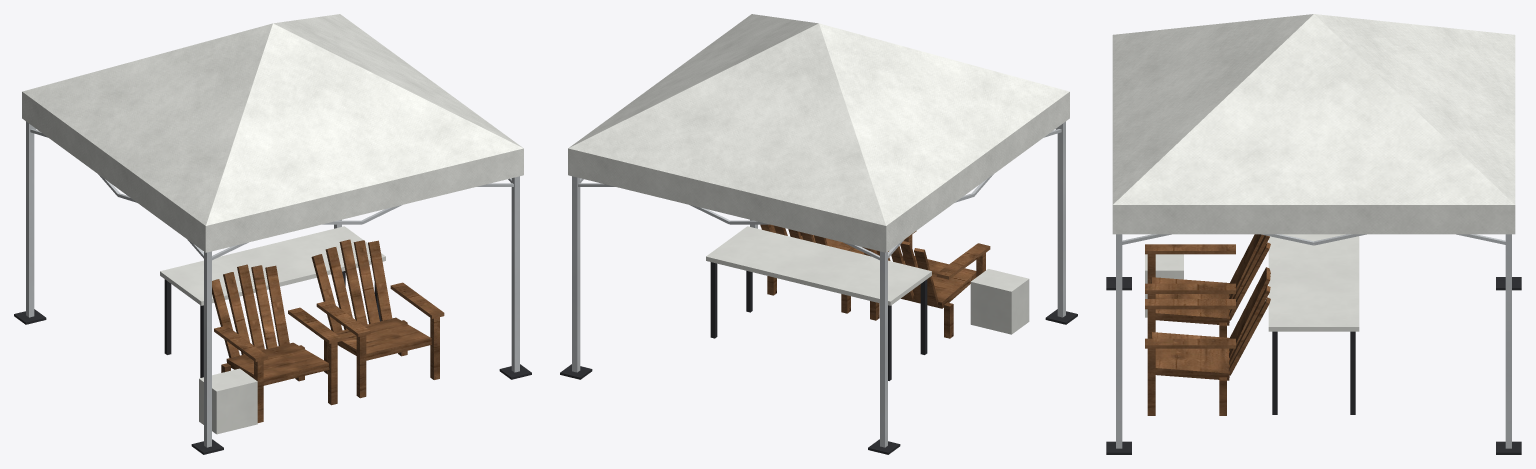
The model's file is tour_tent.fbx.
3 views of the same model, side by side, from view 1: azimuth 30°, elevation 25°; view 2: azimuth 150°, elevation 25°; view 3: azimuth 270°, elevation 25° (orthographic). The views are drawn at different scales.
Visible parts, largest first — view 1: tour_tent_LOD0; view 2: tour_tent_LOD0; view 3: tour_tent_LOD0.
Boxes of the visible parts, bbox=[...] form: tour_tent_LOD0: bbox=[14, 14, 531, 454]; tour_tent_LOD0: bbox=[560, 14, 1077, 454]; tour_tent_LOD0: bbox=[1106, 14, 1521, 454].
Size of what is drawn, in the model's own units: 3.2 by 3 by 3.2.
1 material, 1 textured.
